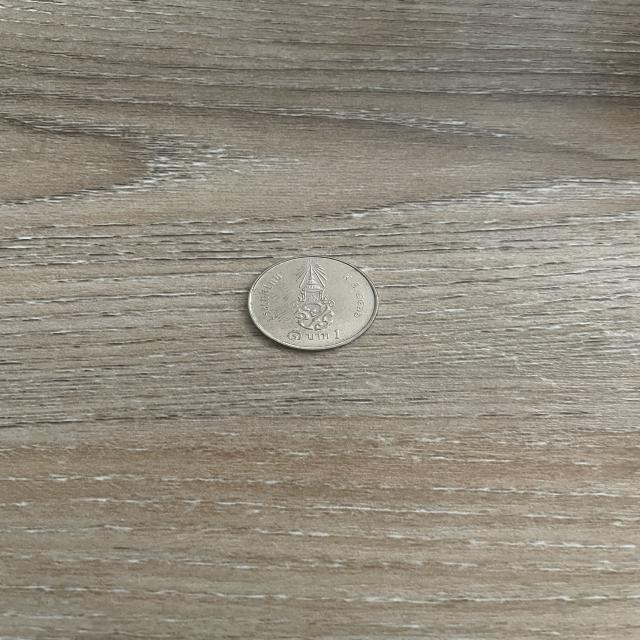1 Bath: (234, 248, 390, 360)
